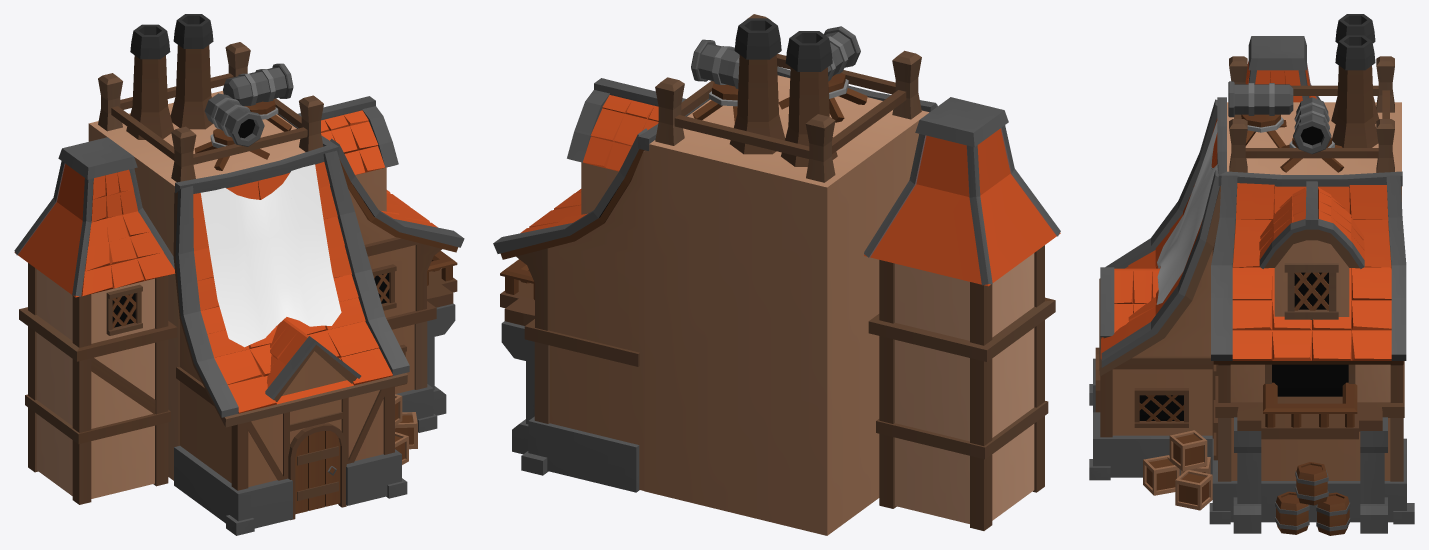
Rendered from Town Hall Level 10.glb.
The picture shows the model from 3 angles, left to right: view 1: azimuth 30°, elevation 25°; view 2: azimuth 150°, elevation 25°; view 3: azimuth 270°, elevation 25°; orthographic projection. The views are drawn at different scales.
Visible parts, largest first — view 1: Town Hall Level 10 Base, Flag.010, Door.010, Cannon2.001, Cannon1.001, Cannon1Base.001, Cannon2Base.002; view 2: Town Hall Level 10 Base, Cannon2.001, Cannon1.001, Cannon1Base.001, Cannon2Base.002; view 3: Town Hall Level 10 Base, Flag.010, Cannon1.001, Cannon2.001, Cannon1Base.001, Cannon2Base.002.
Part boxes in pixels (x1,y1,x2,y2): Town Hall Level 10 Base: (14,14,464,535); Flag.010: (200,164,341,347); Door.010: (295,431,340,514); Cannon2.001: (223,63,293,105); Cannon1.001: (204,93,264,146); Cannon1Base.001: (194,128,269,170); Cannon2Base.002: (244,99,291,131); Town Hall Level 10 Base: (493,14,1060,535); Cannon2.001: (691,39,739,88); Cannon1.001: (790,26,860,81); Cannon1Base.001: (778,72,867,122); Cannon2Base.002: (692,82,738,123); Town Hall Level 10 Base: (1089,14,1414,535); Flag.010: (1156,121,1217,304); Cannon1.001: (1228,81,1293,117); Cannon2.001: (1293,97,1331,154); Cannon1Base.001: (1241,114,1286,147); Cannon2Base.002: (1280,137,1343,172).
Size of the model in its own units: 9.54 by 8.94 by 6.59.
Materials: 2 (2 with a texture image).
